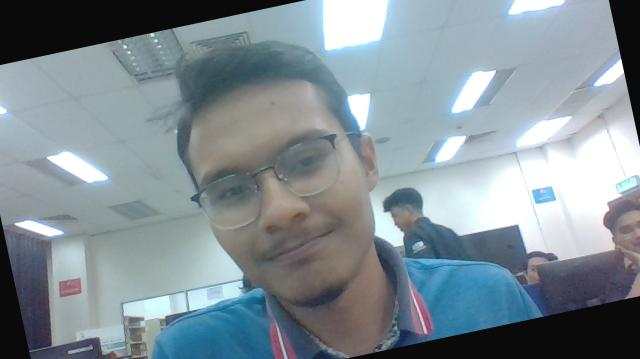senang: (168, 20, 396, 320), (605, 200, 640, 262)
